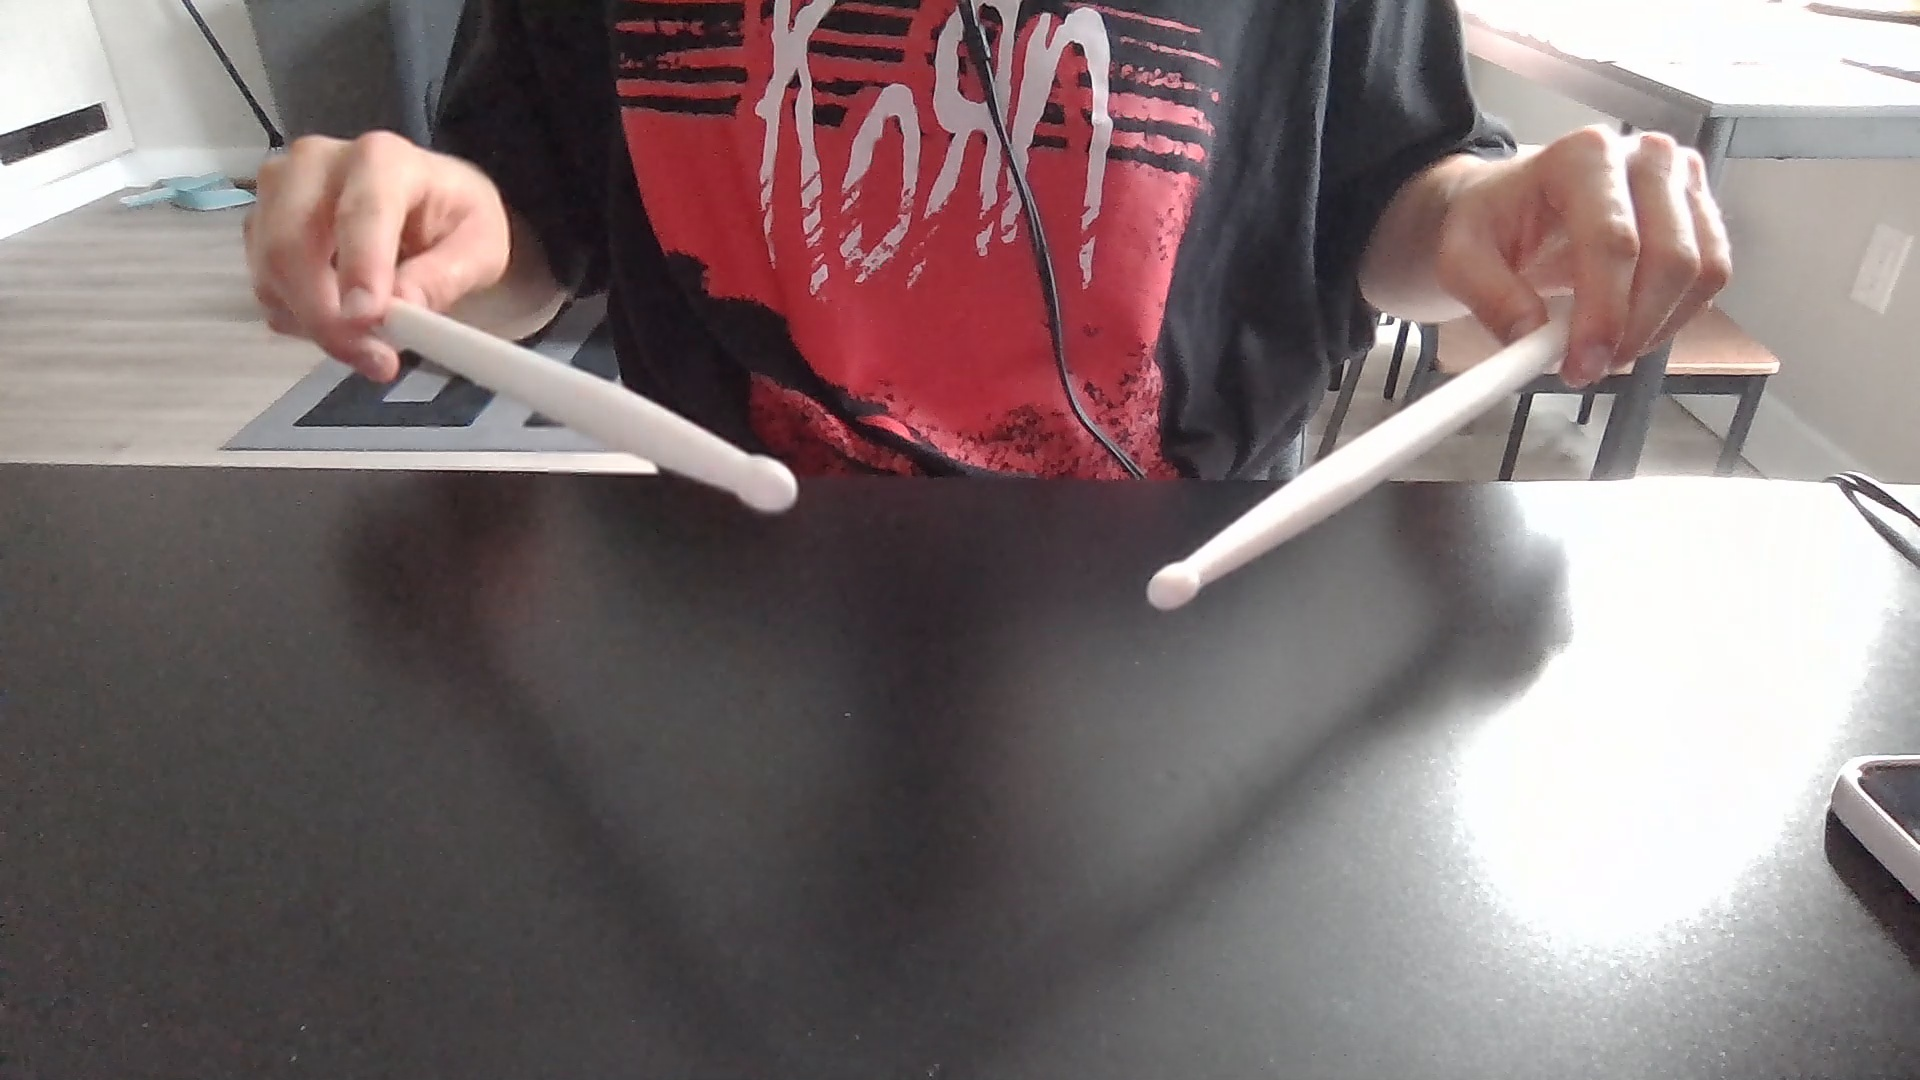left_stick: (731, 438, 800, 526)
right_stick: (1137, 538, 1207, 632)
